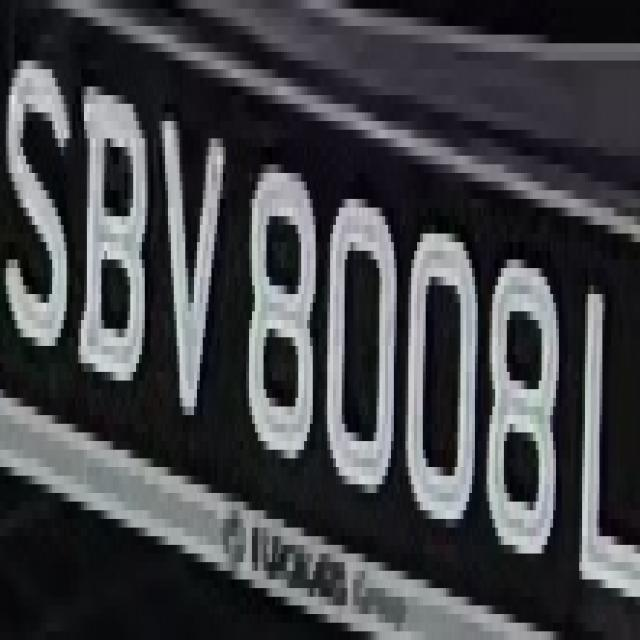0: (318, 147, 399, 528), (402, 182, 483, 562)
8: (240, 156, 328, 510), (486, 208, 564, 588)
B: (72, 52, 156, 441)
L: (570, 251, 640, 631)
S: (8, 0, 70, 398)
V: (151, 69, 223, 415)
